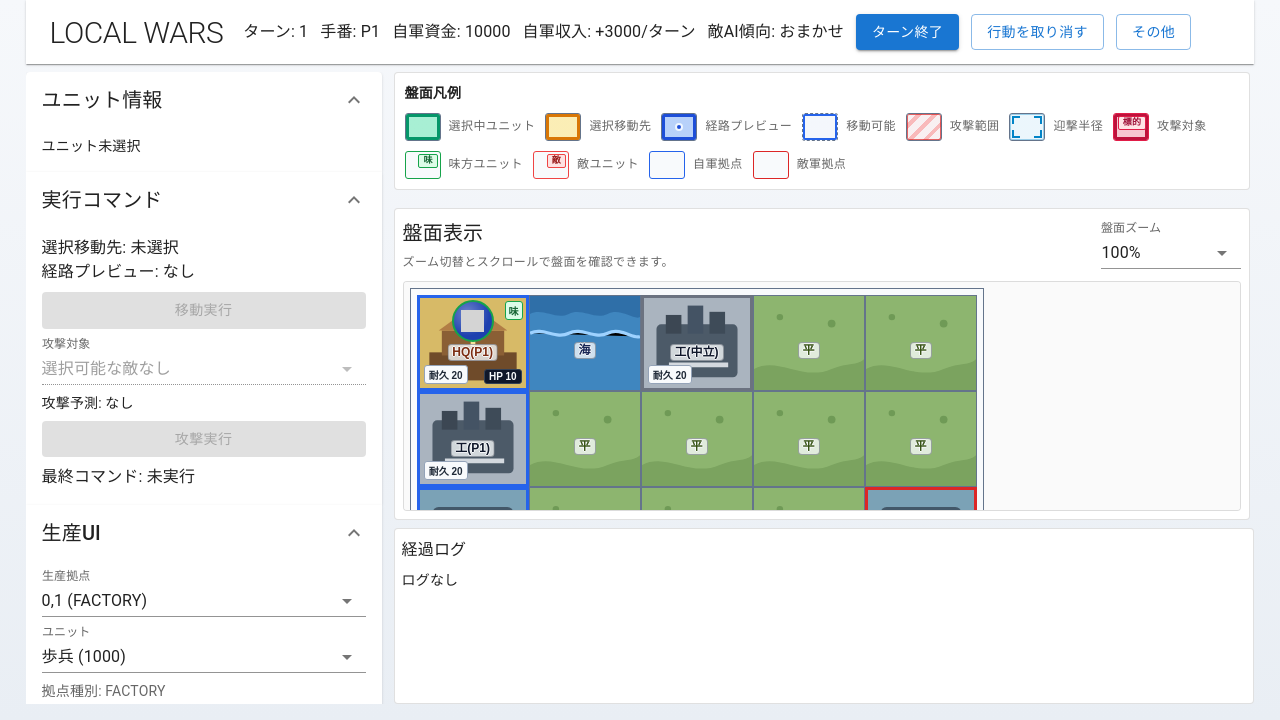
BattleScreen UIテスト: コマンド操作 › 移動先を変えても直前の経路を継ぎ足せるならその経路を優先する
Click the button with aria-label "タイル 0,0": (473, 343) [417,295,529,391]
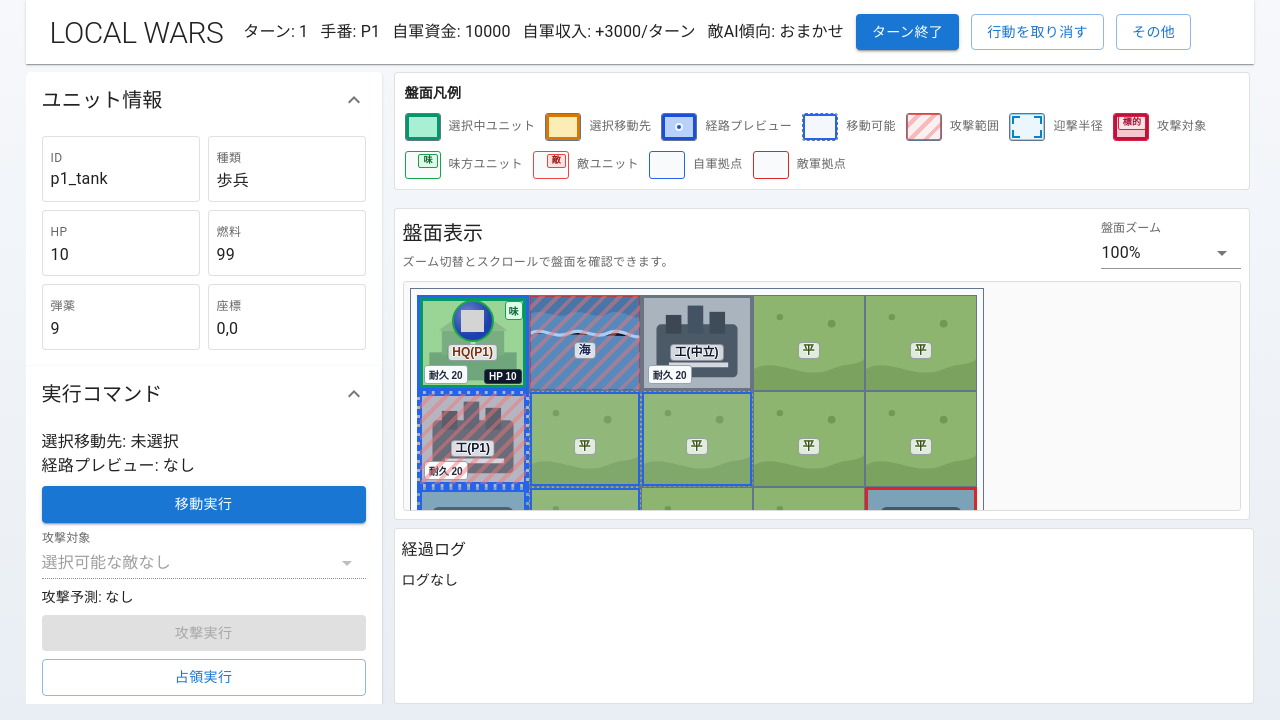
Click the button named "タイル 1,1": (585, 439) [529,391,641,487]
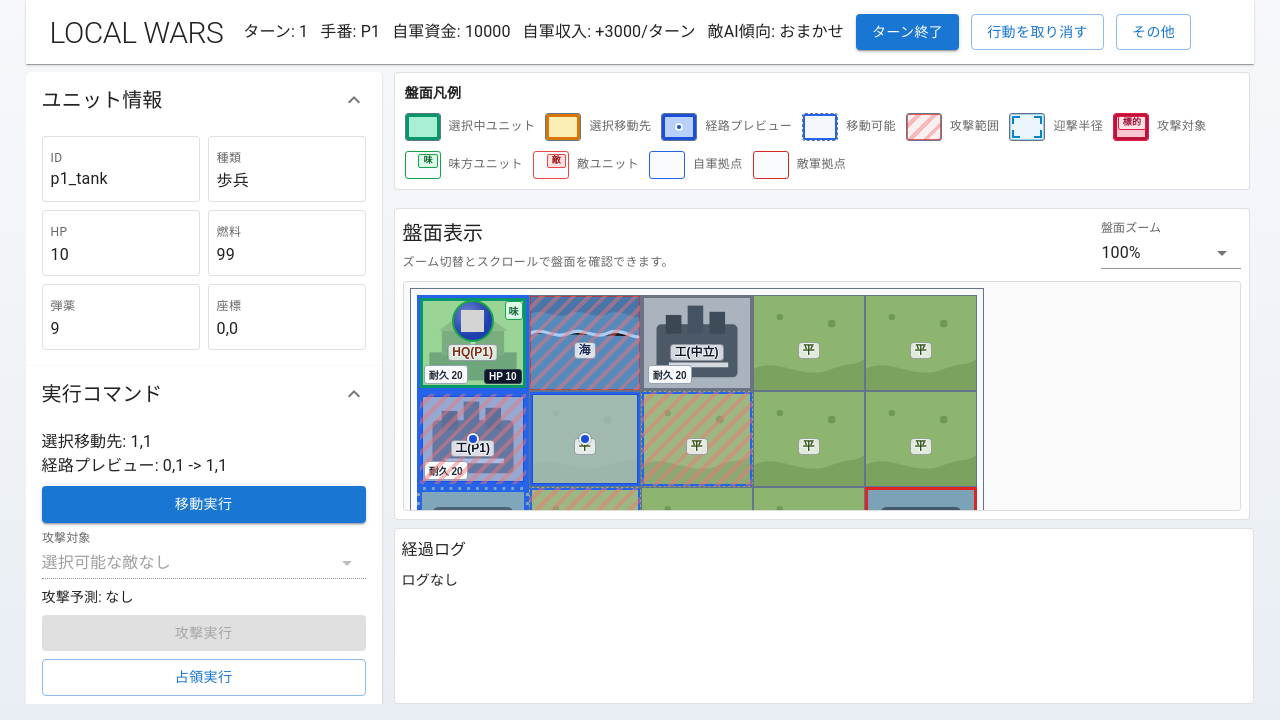
Check: the text "経路プレビュー: 0,1 -> 1,1" is shown, box [42,456,227,475]
Click the button named "タイル 2,1": (697, 439) [641,391,753,487]
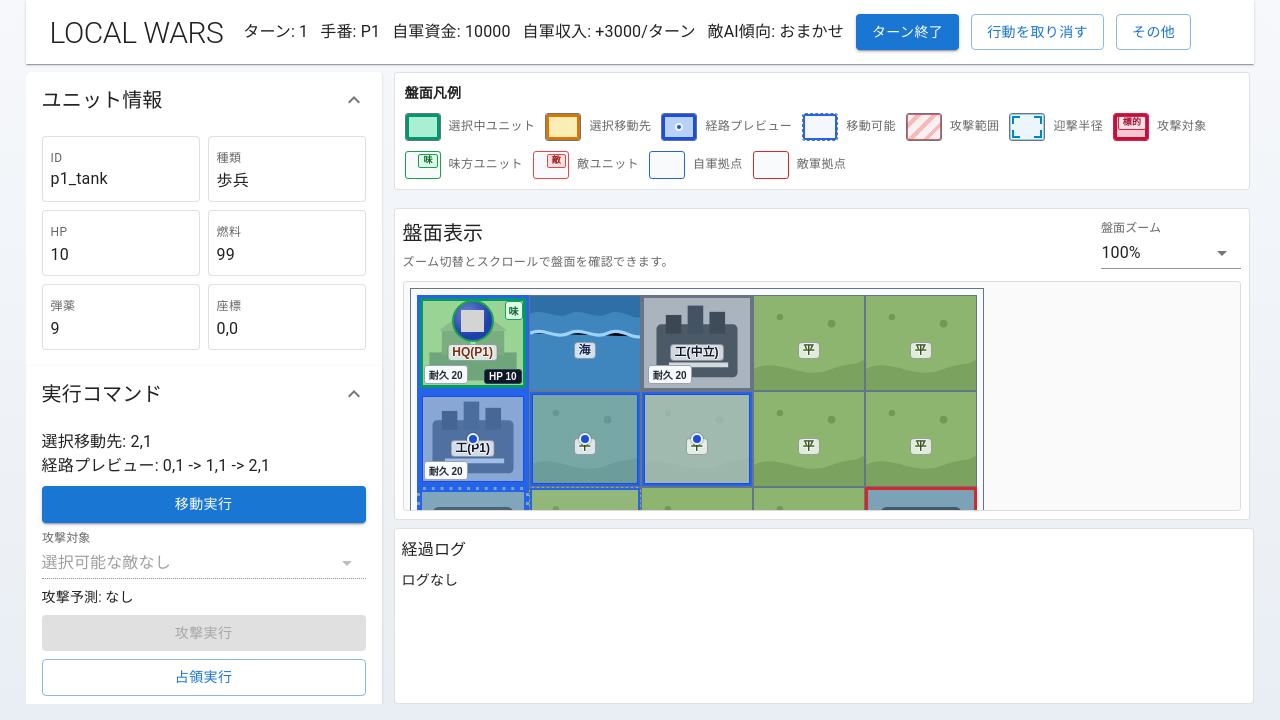
Check: the text "経路プレビュー: 0,1 -> 1,1 -> 2,1" is shown, box [42,456,270,475]
